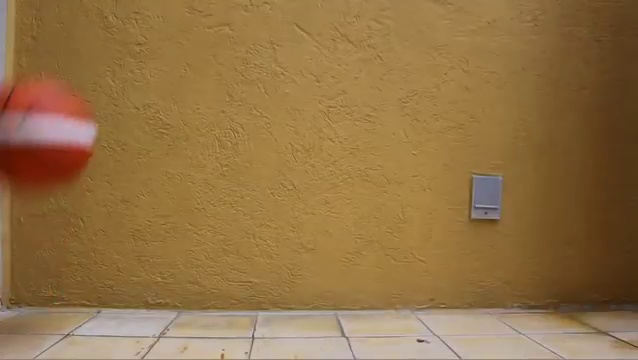ball: (1, 74, 101, 195)
